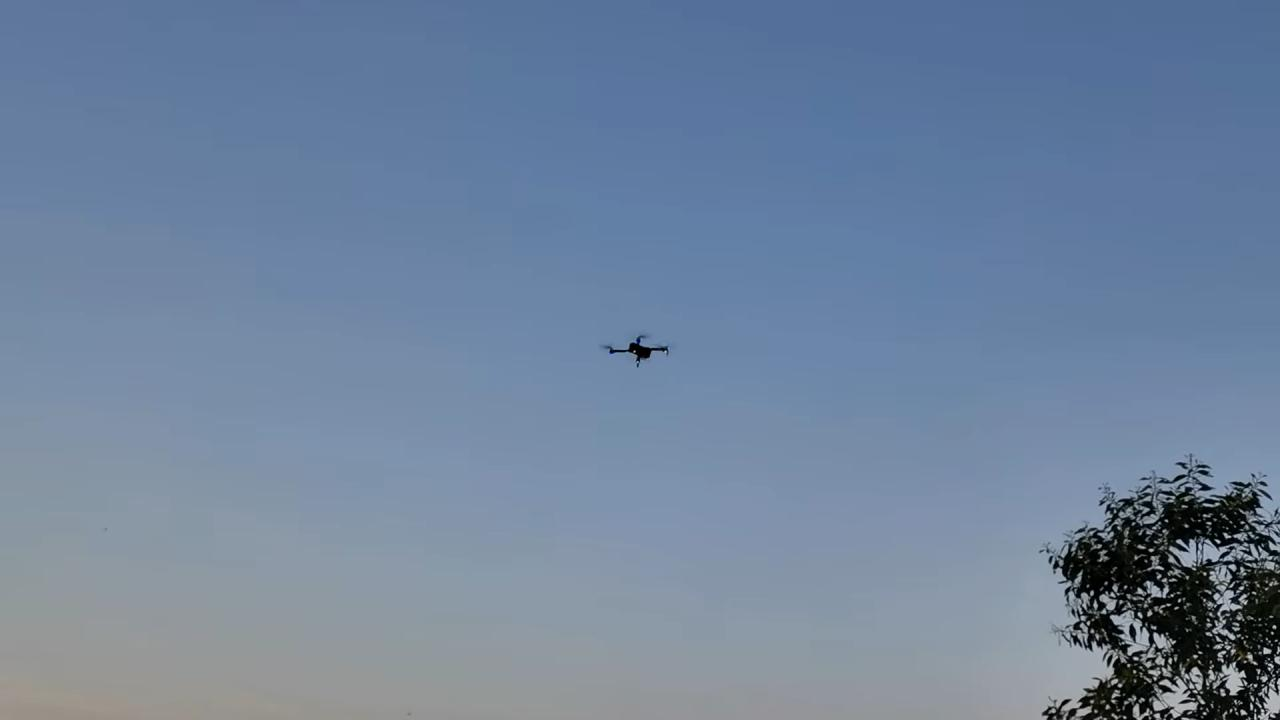Drone: (590, 324, 682, 375)
